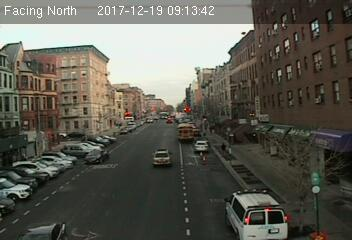car: (152, 148, 173, 168), (83, 148, 107, 164), (194, 139, 209, 152)
police: (224, 187, 292, 240)
truck: (177, 123, 193, 143)
